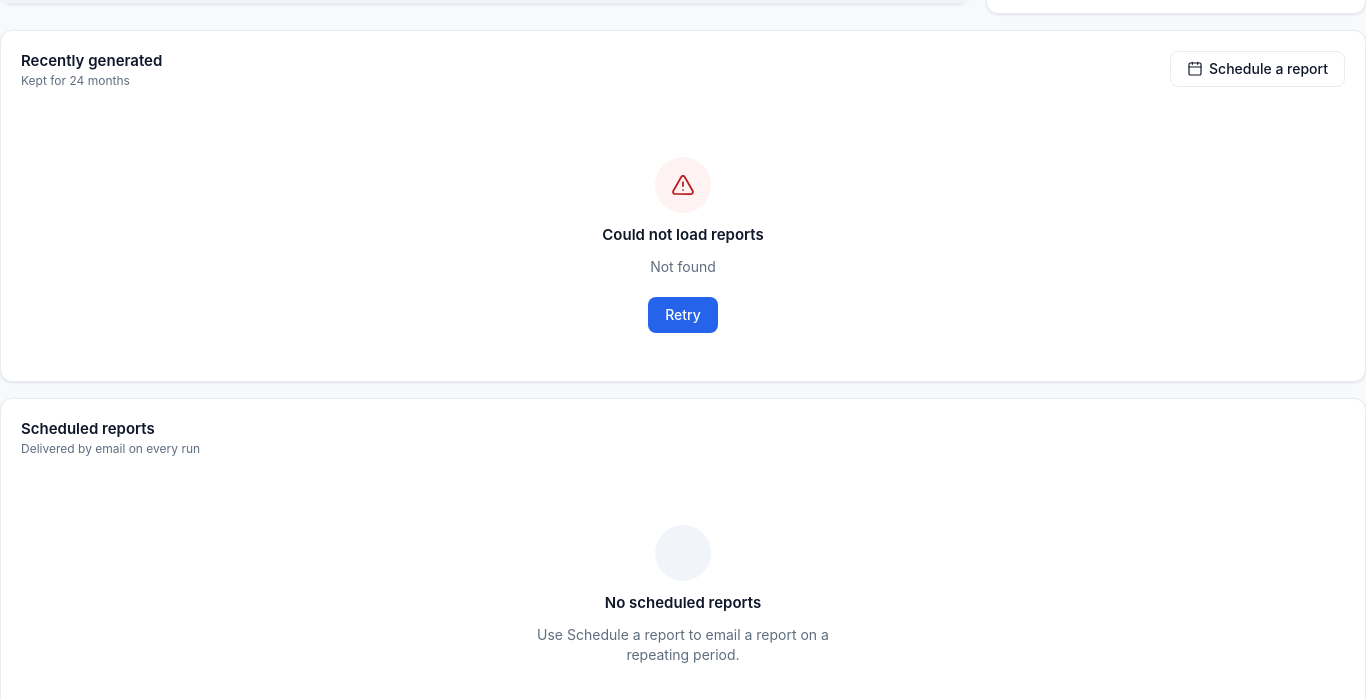
Test: W-12 interactions › retries a failed report list and pages a long one
(page scrolled)
Expected: the heading "Could not load reports" is shown, [602,225,764,245]
Click the button "Retry": [683, 315] box [648,297,718,333]
(page scrolled)
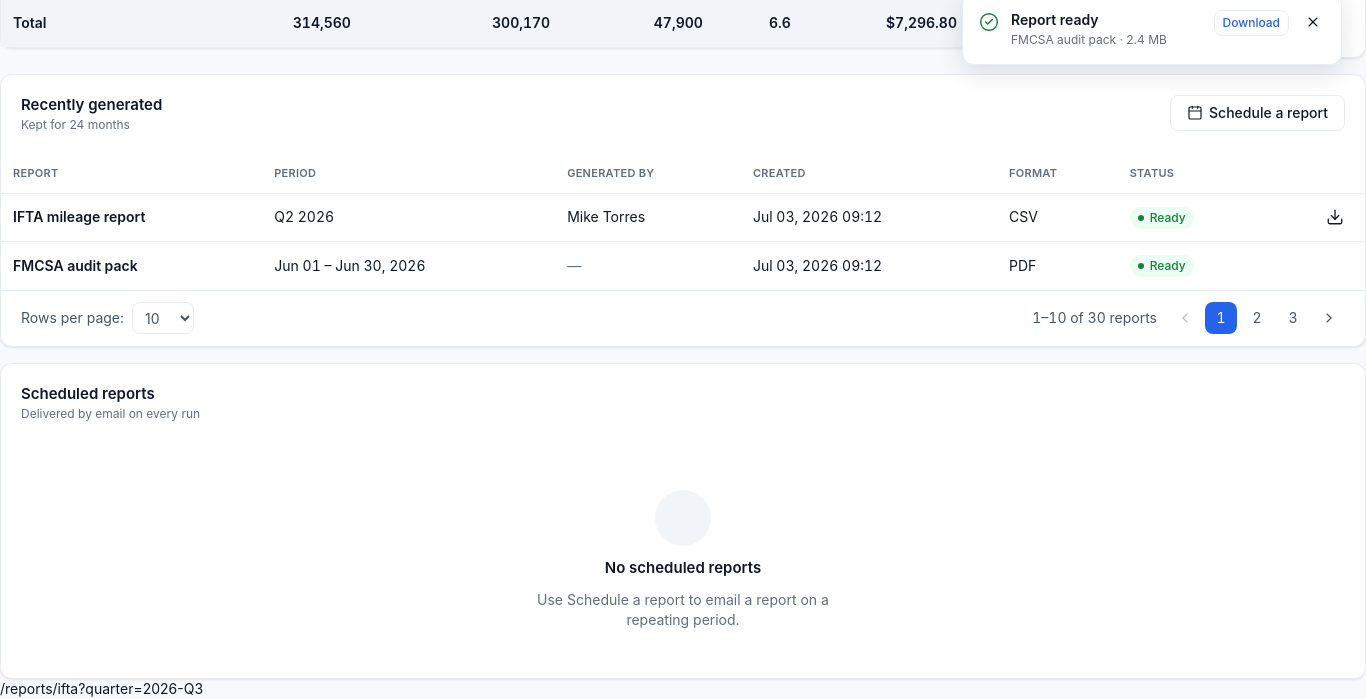
Expected: the row "IFTA mileage report" is shown, [1,194,1365,242]
Select "25" in the dropdown labelled "Rows per page:": [163, 318] box [132,302,194,334]
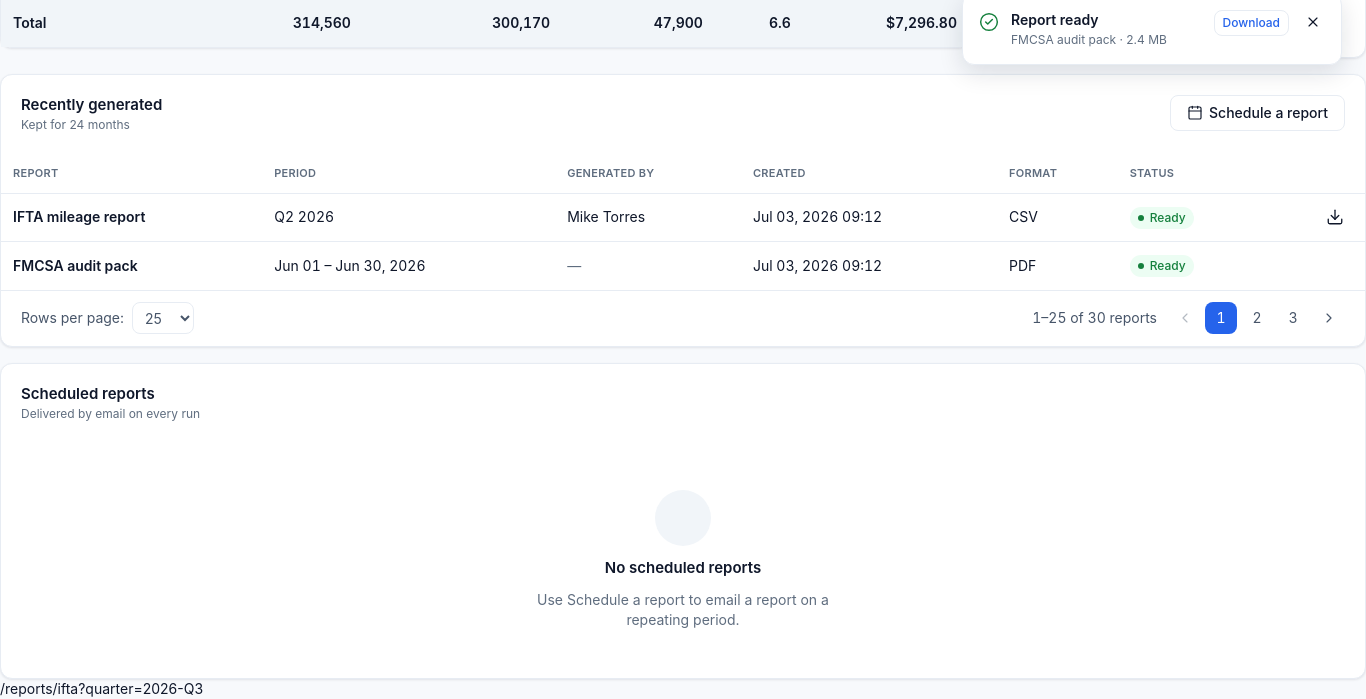
Expected: the dropdown labelled "Rows per page:" shows "25", [132,302,194,334]
